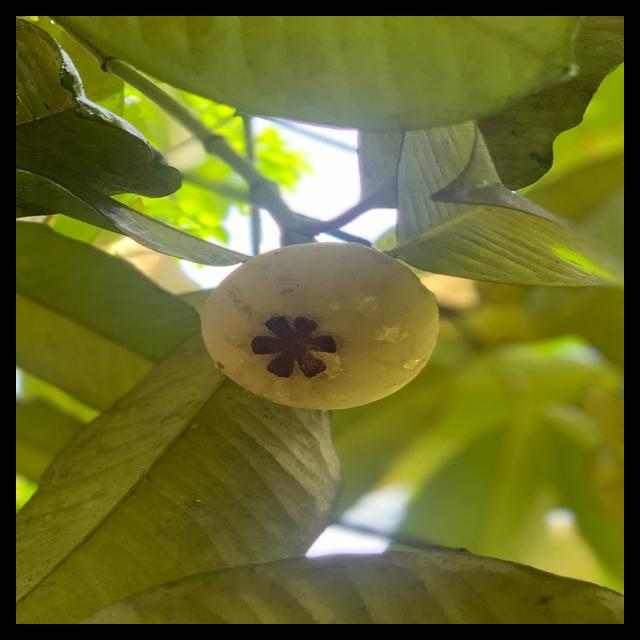mangosteen: (169, 217, 452, 463)
